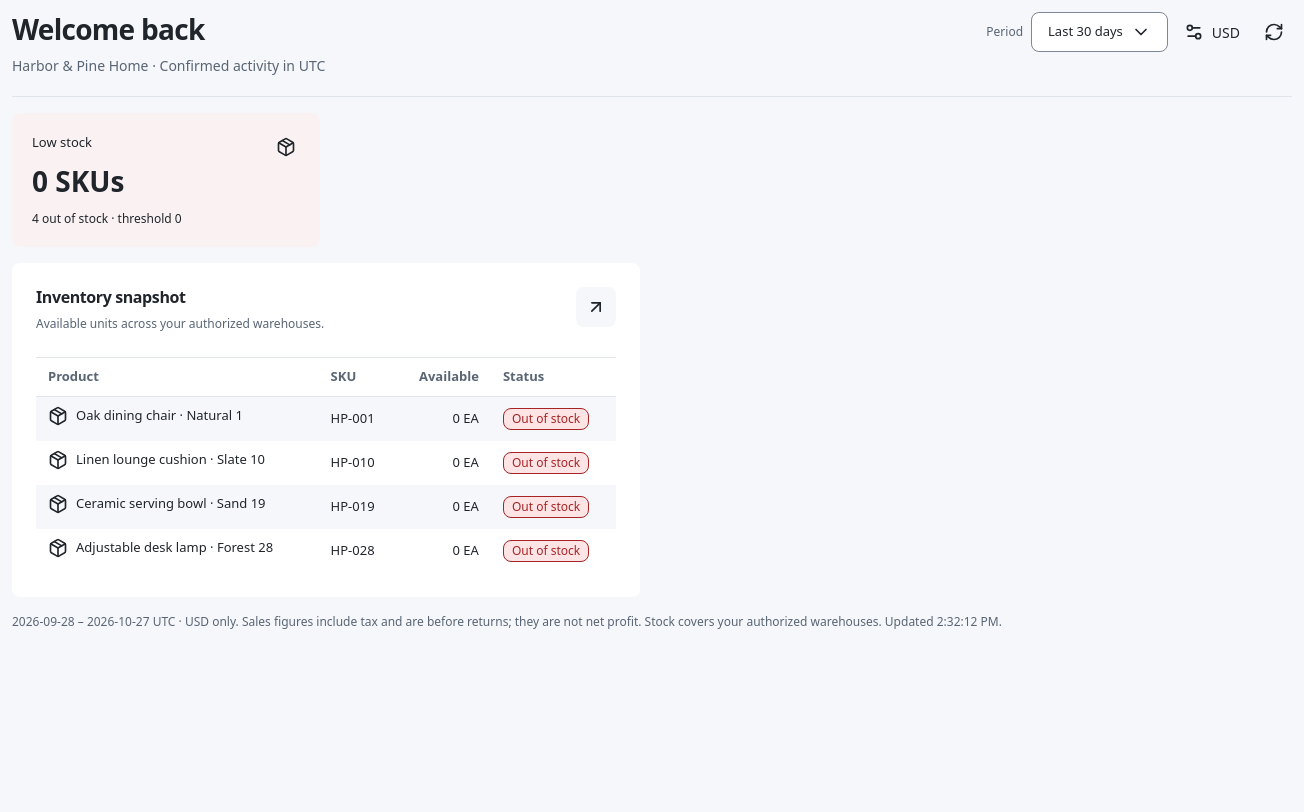
Test case: keeps restricted sections absent and shows request failures rather than invented totals
The image size is (1304, 812).
Expected: the heading "Inventory snapshot" is shown, [36, 286, 186, 308]
Step 1. Click the button named "Refresh dashboard" → (1274, 32), box [1256, 14, 1292, 50]
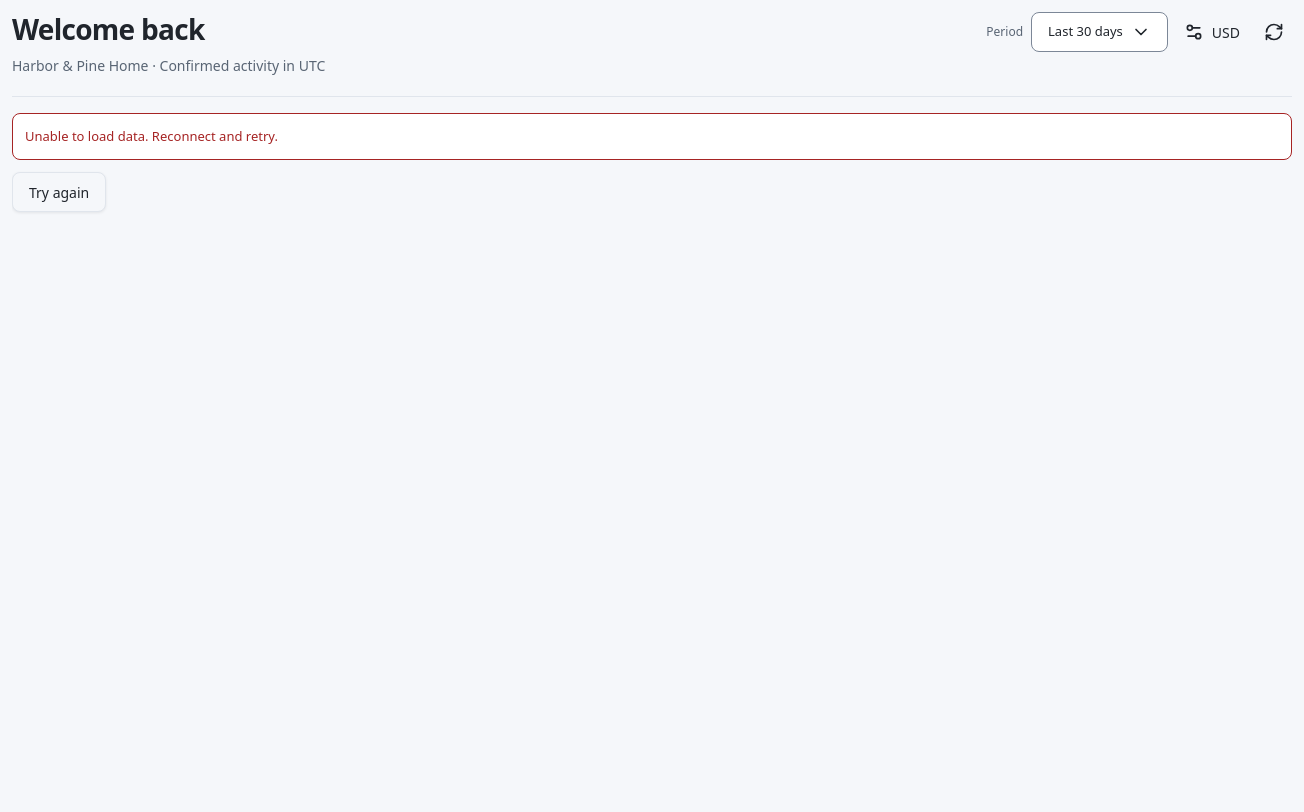
Now the message "Unable to load data. Reconnect and retry." is shown, box [12, 113, 1292, 160]
